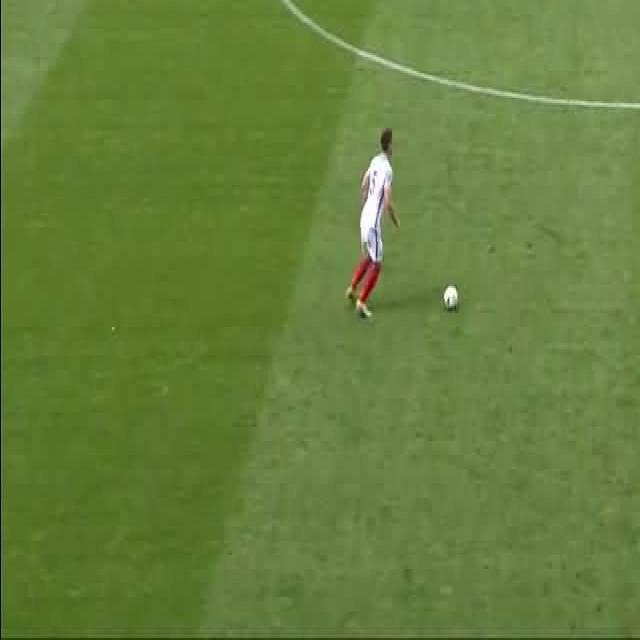ball: (444, 284, 458, 310)
player-white: (345, 128, 400, 320)
